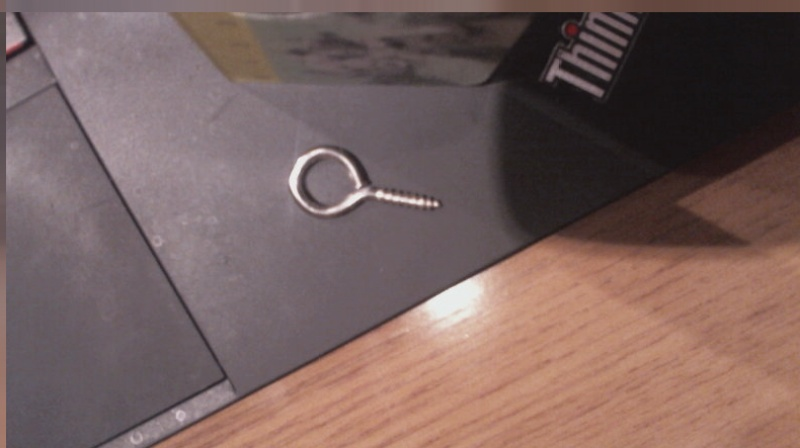O001: (283, 143, 440, 220)
